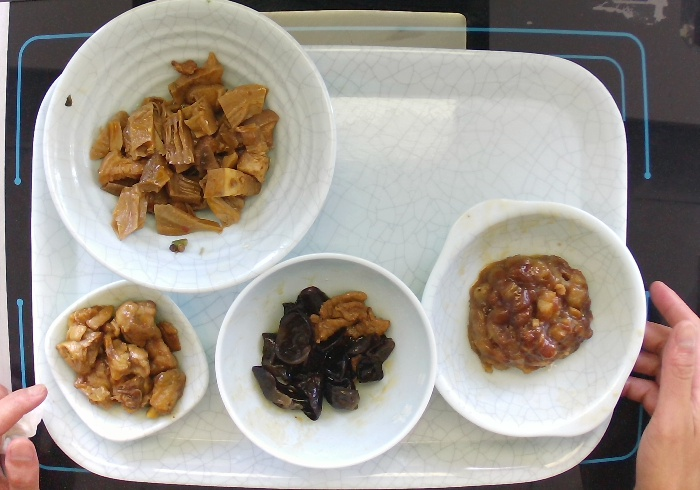JYsf-Fan_Wan: (210, 249, 442, 474)
JYsf-Shuang_Er_Wan: (416, 192, 653, 445)
JYsf-Si_Fang_Die: (41, 275, 213, 447)
JYsf-Xiao_Tang_Wan: (36, 1, 341, 297)
